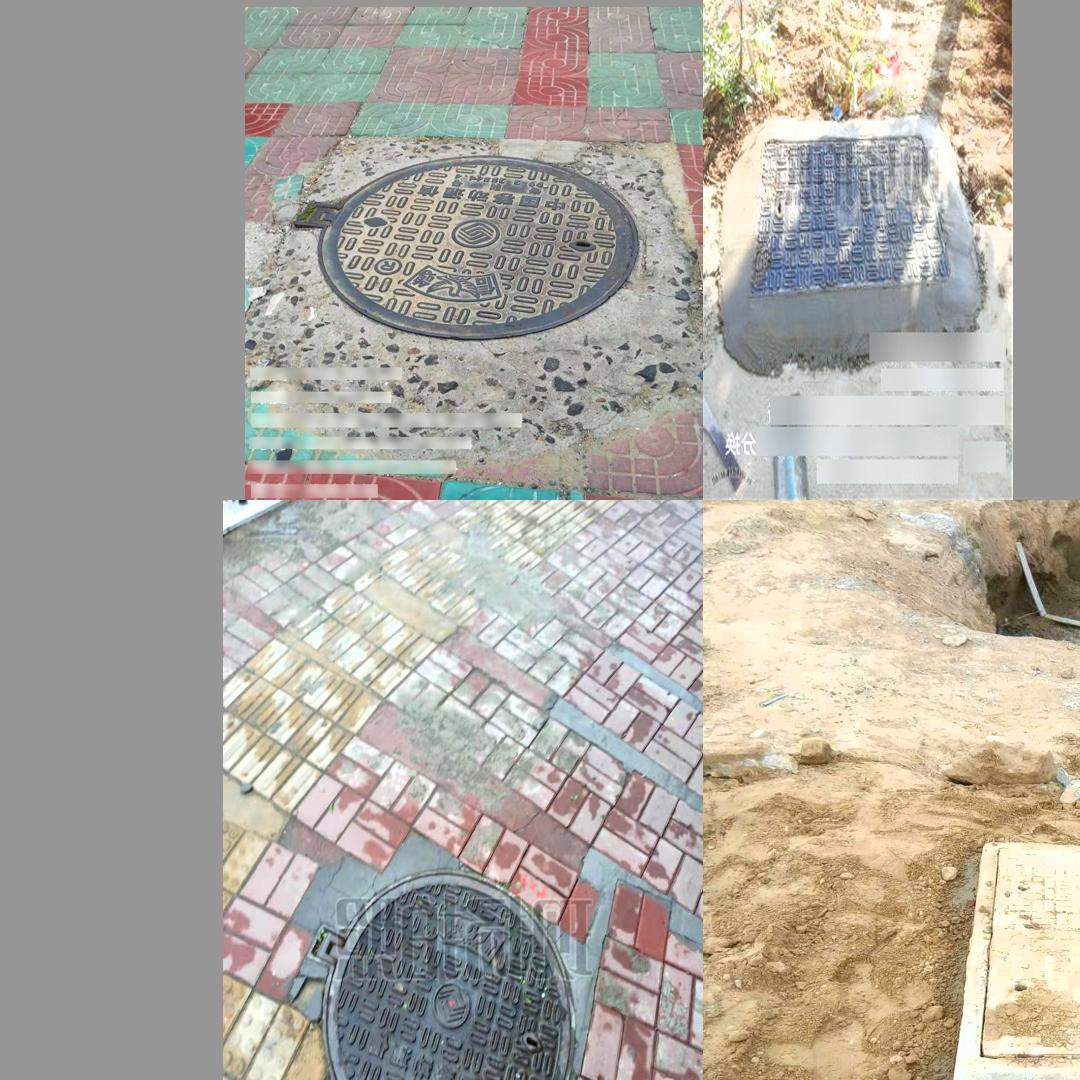good: (294, 153, 640, 339), (303, 869, 575, 1080), (747, 127, 952, 291), (949, 842, 1080, 1080)
